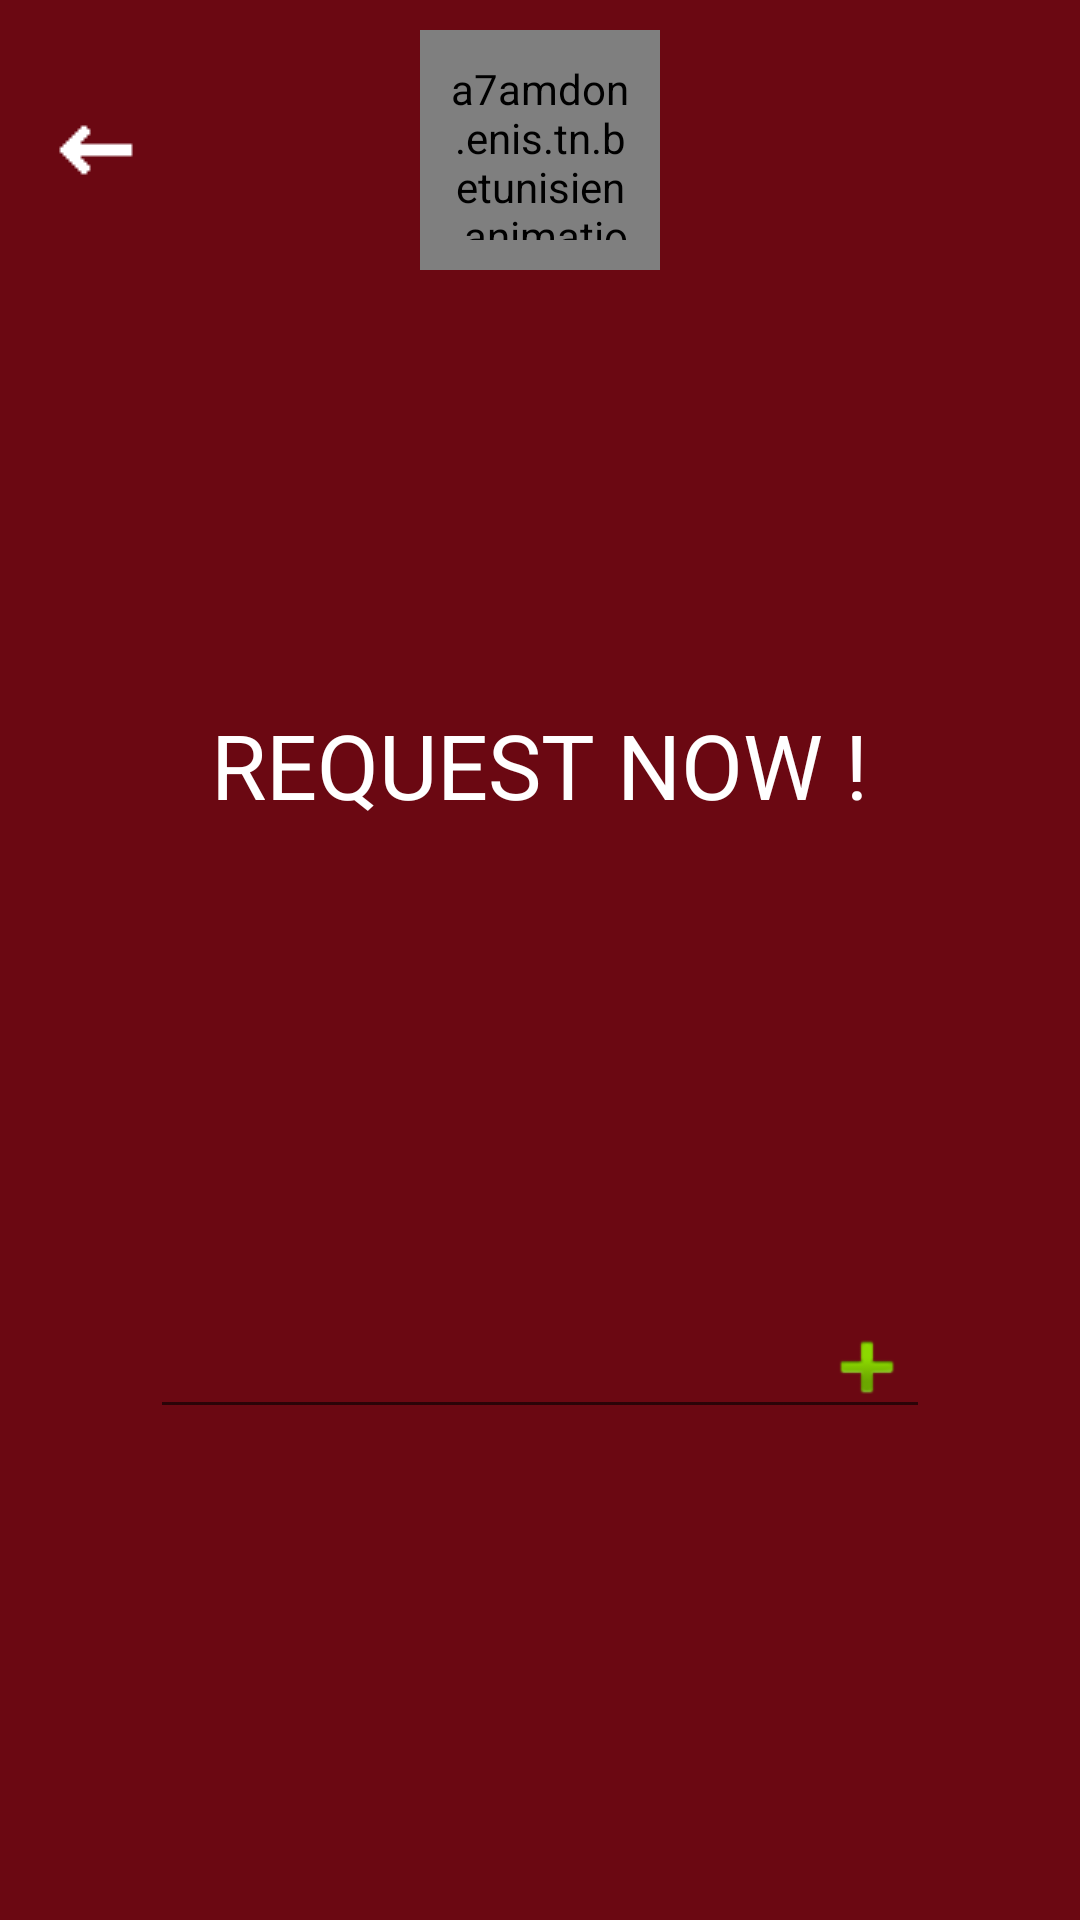

Named icons in this screenshot (1080 × 1920) and their centers, point (x, y):
add: point (867, 1367)
icback: point (96, 150)
